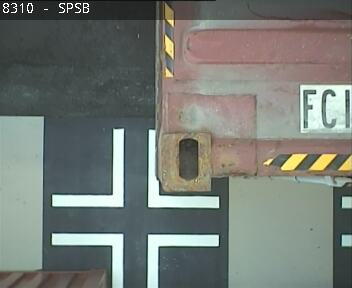groundmarker_1: (52, 128, 219, 209), (51, 233, 219, 288)
